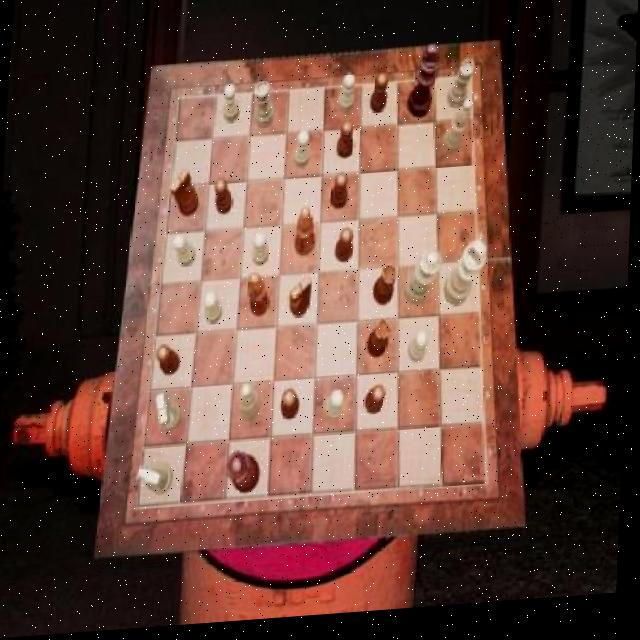bishop: (295, 212, 318, 262), (249, 276, 273, 321)
black-bishop: (406, 51, 441, 127)
black-king: (170, 171, 201, 220), (291, 281, 315, 324)
black-knight: (158, 347, 182, 380), (371, 80, 389, 121), (332, 178, 350, 215), (216, 182, 234, 219), (338, 127, 356, 164), (368, 391, 389, 421), (337, 233, 355, 268), (285, 392, 303, 424)
black-pawn: (231, 455, 265, 499)
black-queen: (375, 270, 399, 312), (369, 324, 393, 364)
black-rook: (443, 104, 473, 161), (240, 387, 264, 426)
white-bishop: (446, 246, 489, 314)
white-king: (140, 466, 177, 500), (158, 395, 185, 435)
white-knight: (173, 236, 197, 271), (337, 79, 356, 120), (222, 88, 240, 127), (205, 294, 225, 329), (410, 336, 431, 369), (293, 134, 311, 172), (327, 395, 348, 427), (252, 236, 271, 271)
white-pawn: (405, 255, 444, 312)
white-queen: (447, 66, 476, 115), (254, 84, 276, 133)
